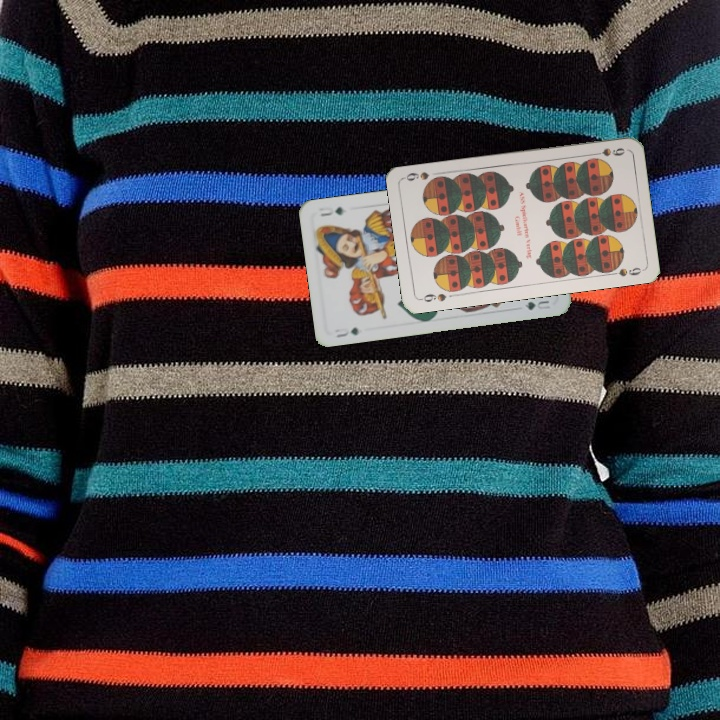GU: (331, 323, 362, 340)
S9: (587, 144, 627, 159), (416, 289, 448, 304)
